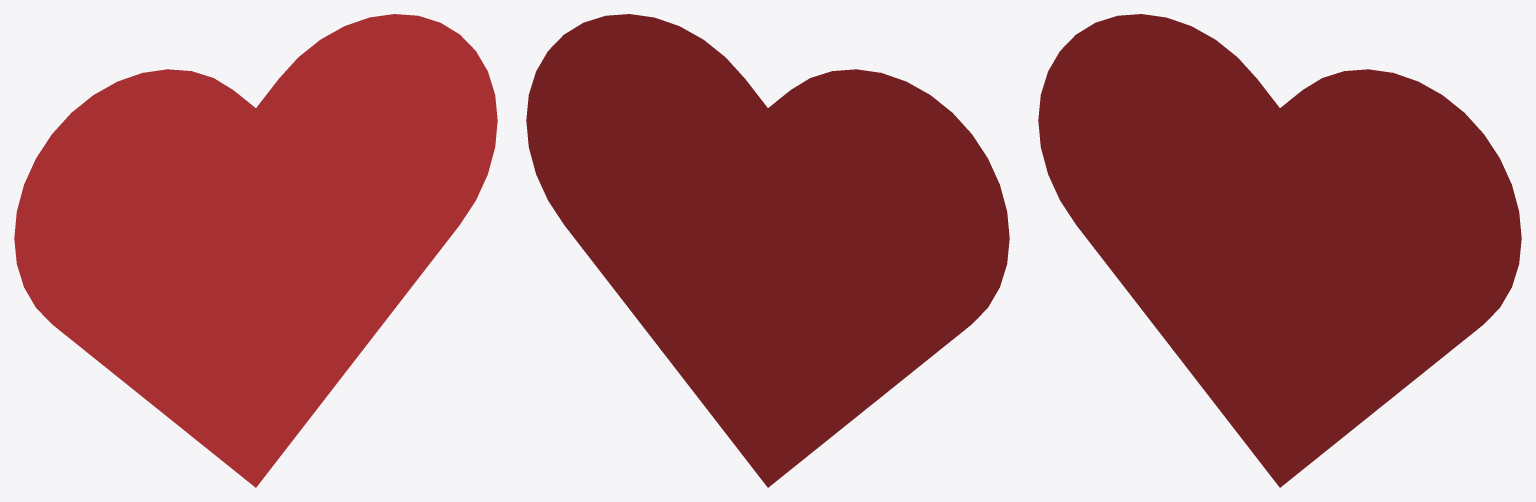
File: hrm_m_hud.fbx
3 renders of one model, left to right at view 1: azimuth 30°, elevation 25°; view 2: azimuth 150°, elevation 25°; view 3: azimuth 330°, elevation 25°, orthographic.
Parts seen in each view (by area): view 1: hrm_m_heart; view 2: hrm_m_heart; view 3: hrm_m_heart.
Boxes of the visible parts, x1=… form: hrm_m_heart: x1=14, y1=14, x2=497, y2=487; hrm_m_heart: x1=526, y1=14, x2=1009, y2=487; hrm_m_heart: x1=1038, y1=14, x2=1521, y2=487.
Size of the model in its own units: 0.049 by 5.01e-09 by 0.0429.
